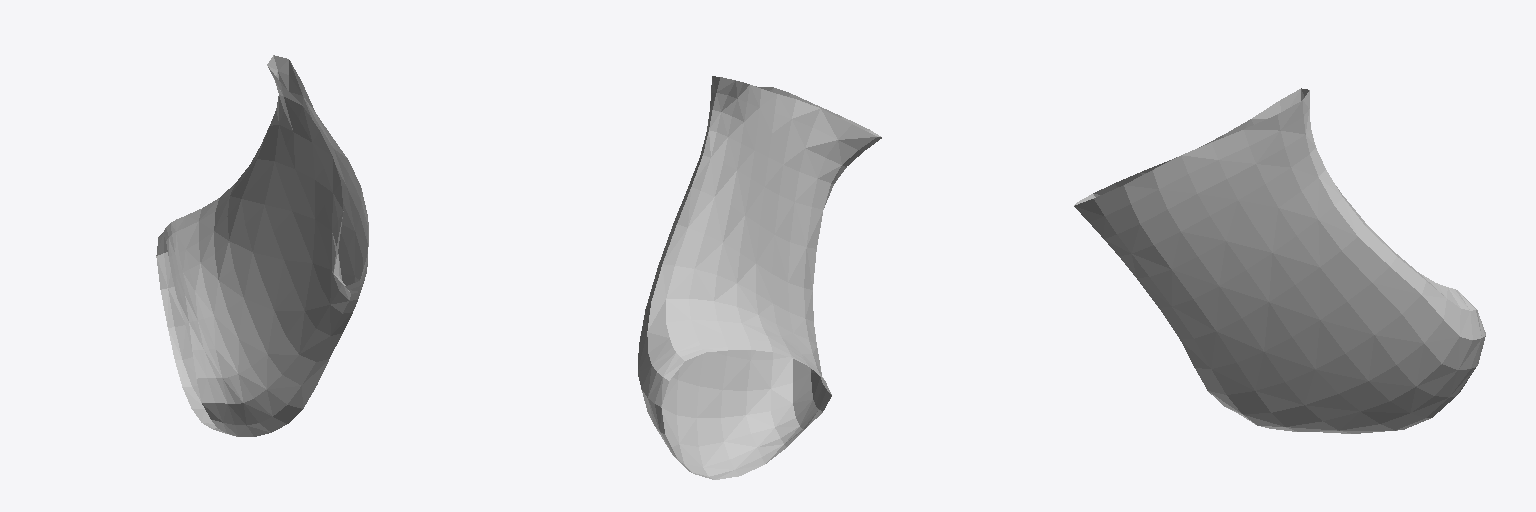
The model's file is masseter_superficial_left.obj.
3 views of the same model, side by side, from view 1: azimuth 30°, elevation 25°; view 2: azimuth 150°, elevation 25°; view 3: azimuth 270°, elevation 25° (orthographic).
Visible parts, largest first — view 1: Masseter_Superficial_Muscle_Left; view 2: Masseter_Superficial_Muscle_Left; view 3: Masseter_Superficial_Muscle_Left.
Part boxes in pixels (left/top/right/bottom): Masseter_Superficial_Muscle_Left: left=156, top=55, right=368, bottom=436; Masseter_Superficial_Muscle_Left: left=638, top=76, right=881, bottom=479; Masseter_Superficial_Muscle_Left: left=1074, top=88, right=1485, bottom=433.
Size of the model in its own units: 0.2049 by 0.6004 by 0.617.